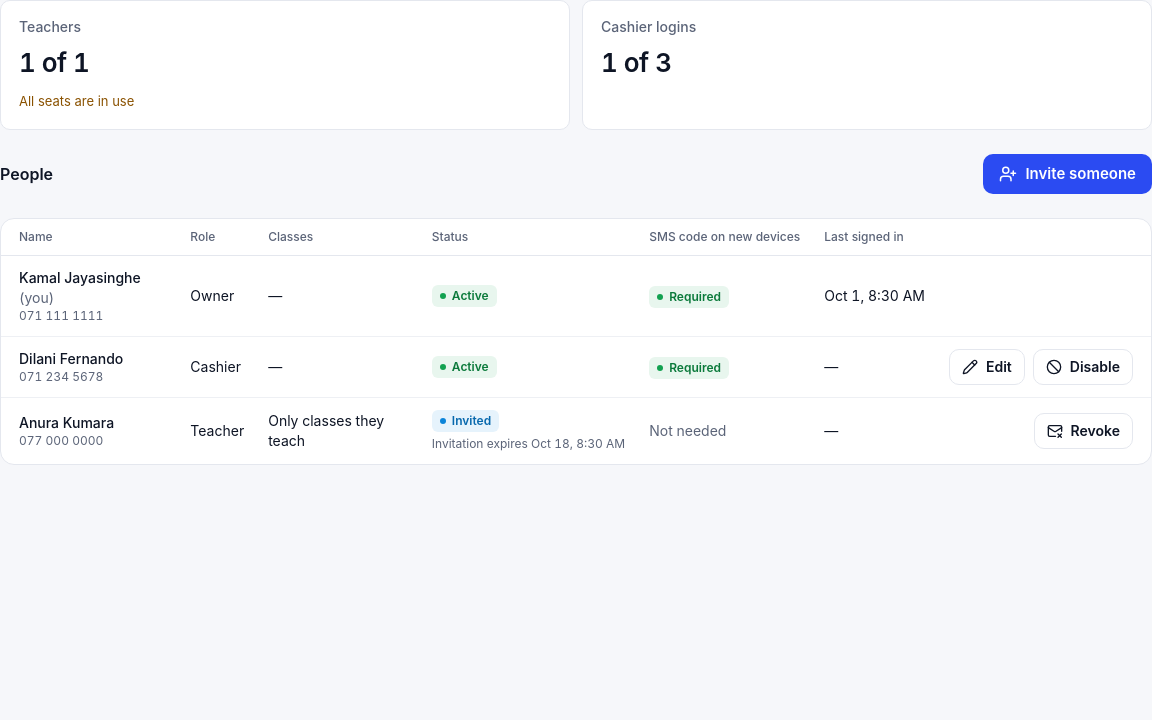
Test: StaffPanel › invites someone: needs a phone for SMS roles, shows plan-limit errors
The image size is (1152, 720).
Click the button "Invite someone" at (1068, 174), box [984, 154, 1151, 194]
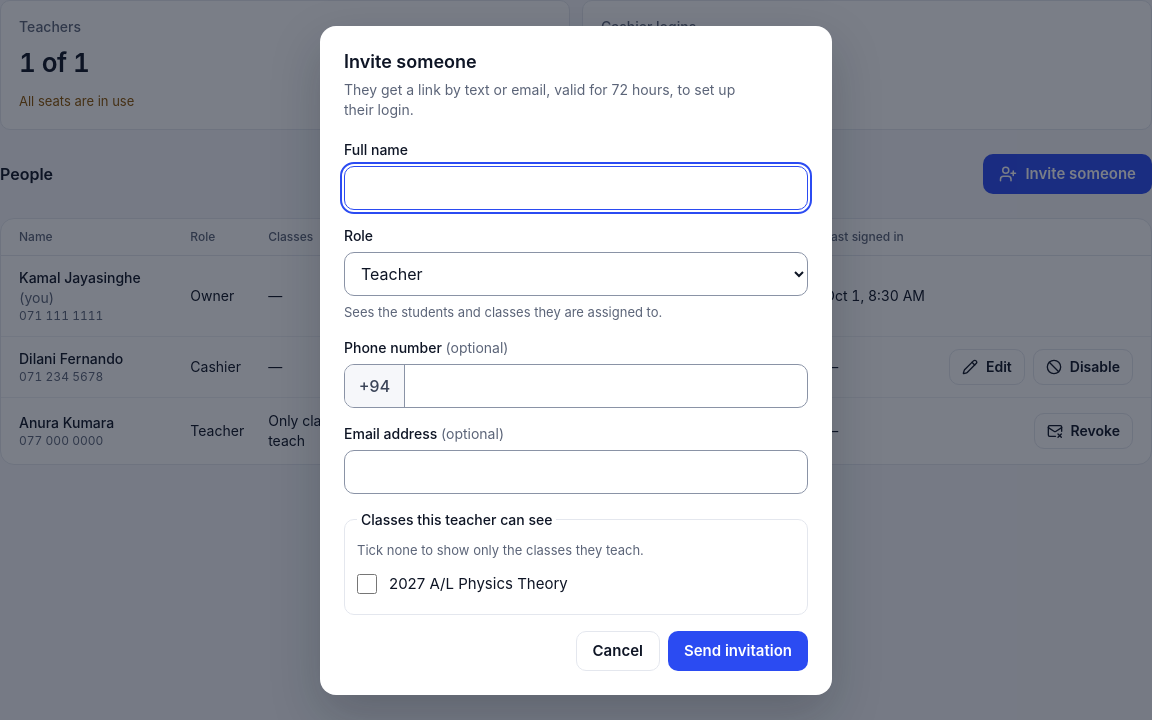
Type "New Cashier" into the field labelled "Full name" at (576, 188), box [344, 166, 808, 210]
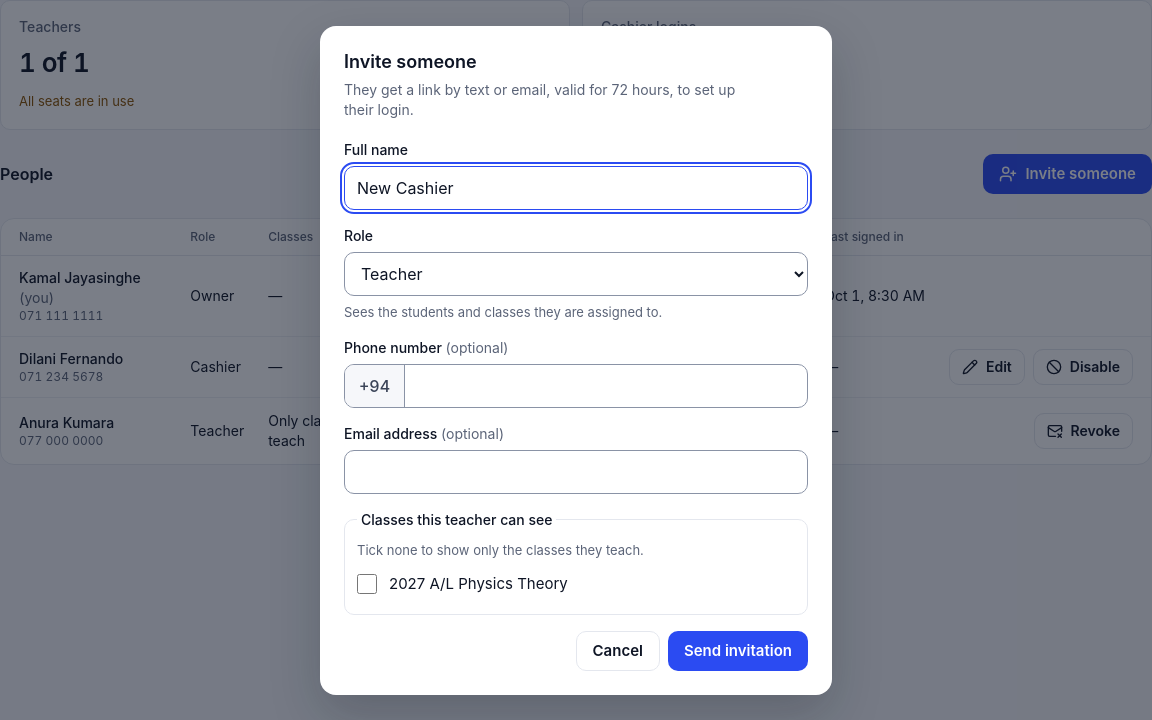
Select "Cashier" in the dropdown labelled "Role" at (576, 274), box [344, 252, 808, 296]
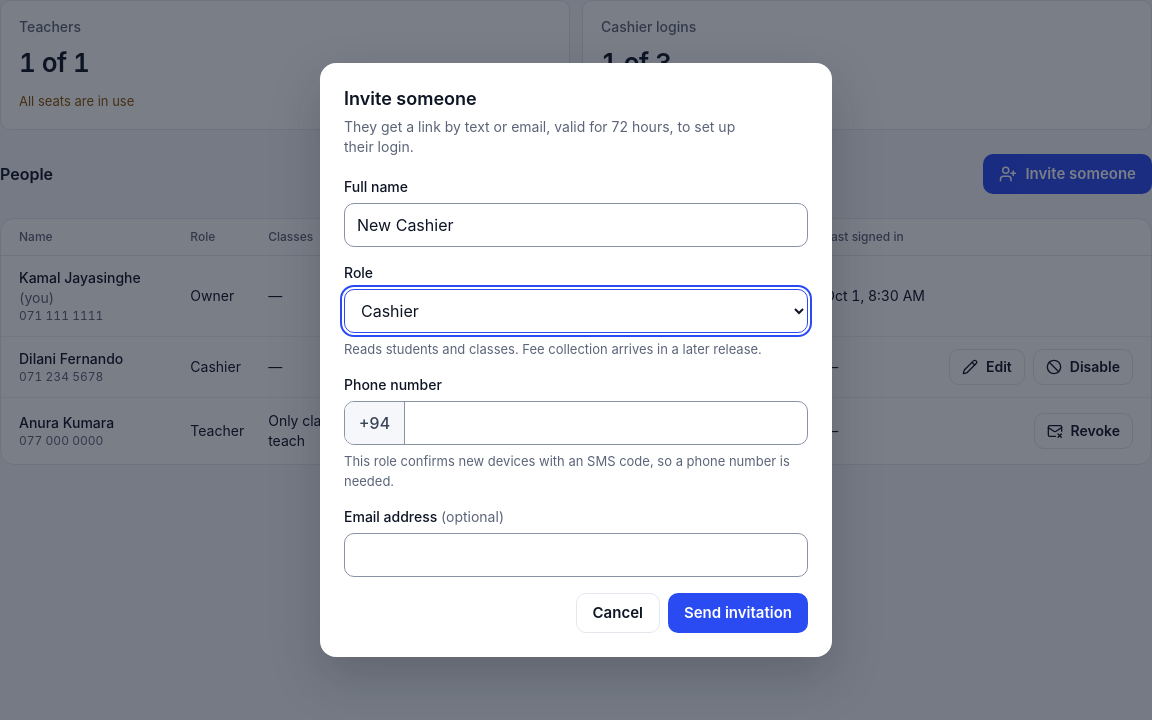
Click the button "Send invitation" at (738, 613), box [668, 593, 808, 633]
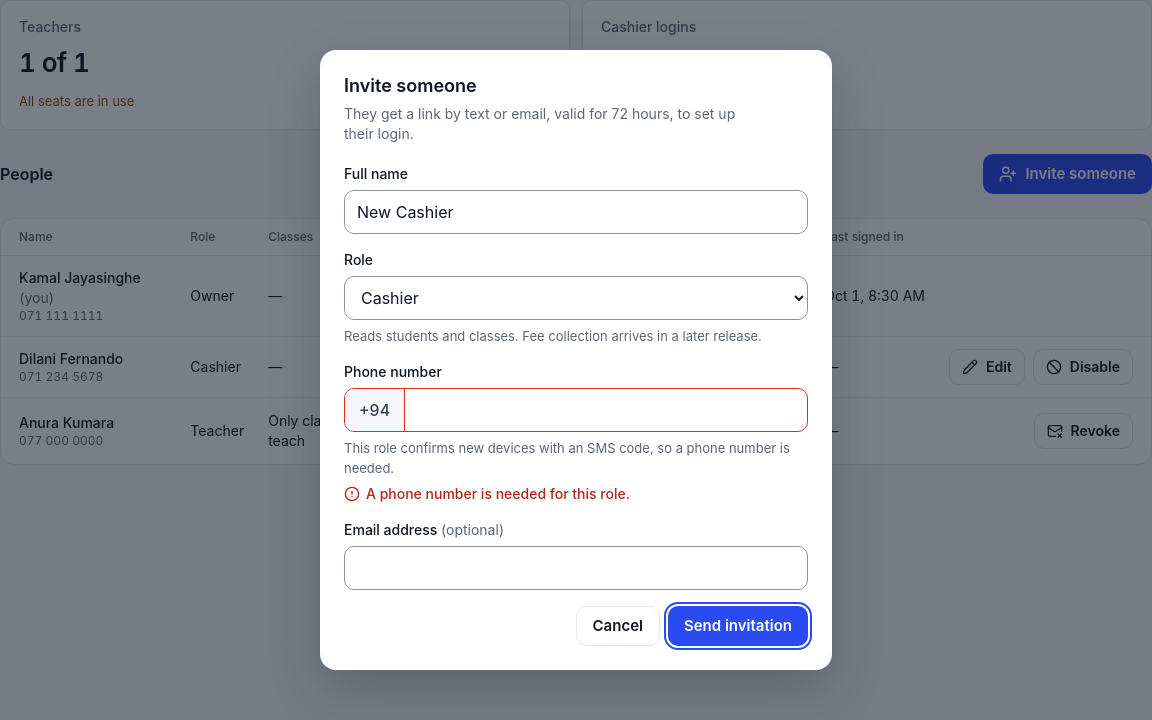
Expected: the text "A phone number is needed for this role." is shown, [366, 484, 630, 504]
Type "077 765 4321" into the field labelled "Phone number" at (606, 410), box [405, 389, 807, 431]
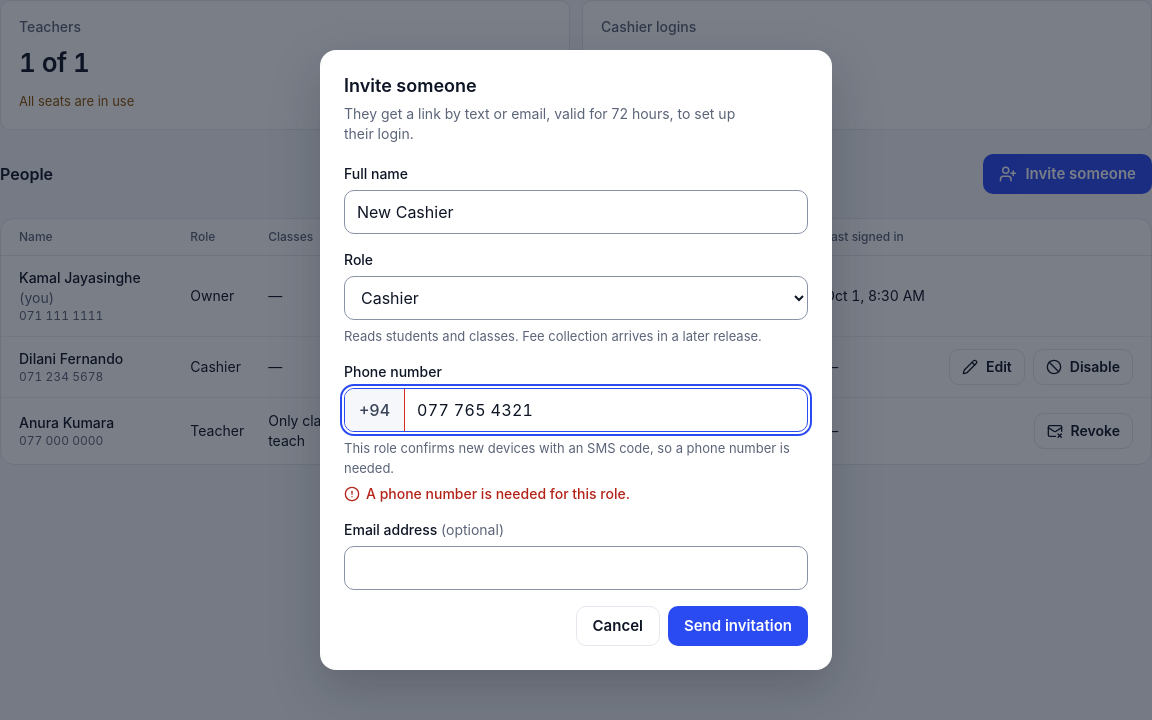
Click the button "Send invitation" at (738, 626), box [668, 606, 808, 646]
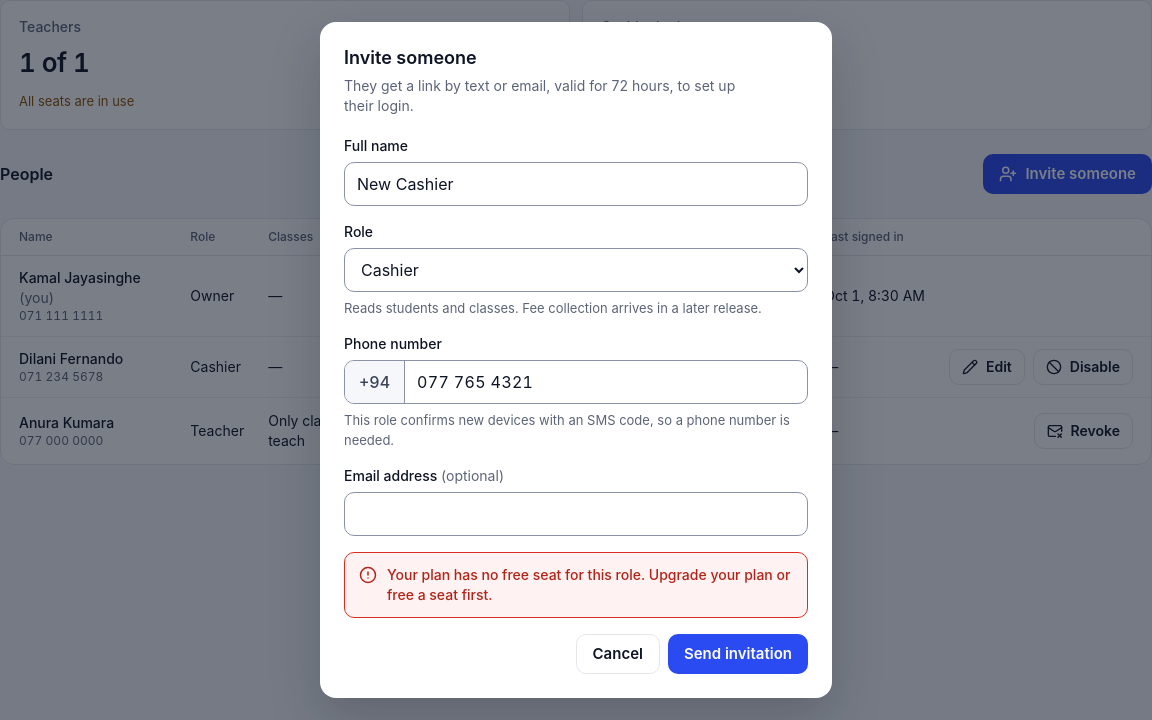
Expected: the text "no free seat for this role" is shown, [387, 566, 790, 603]
